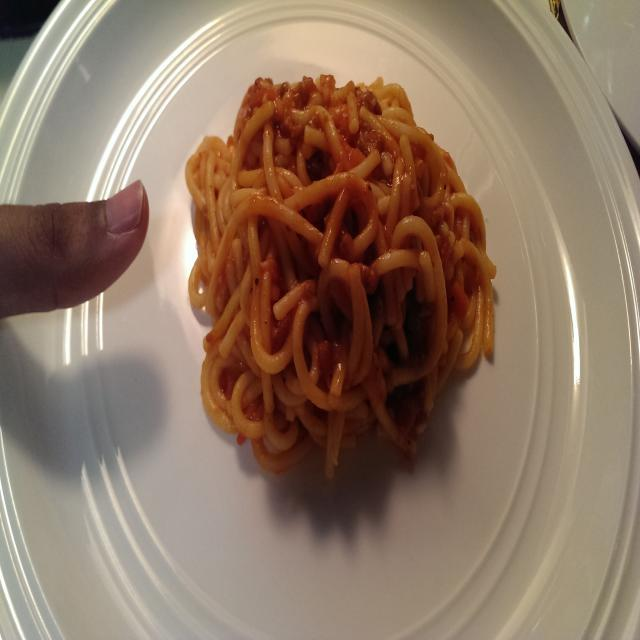Pasta: (170, 49, 537, 496)
